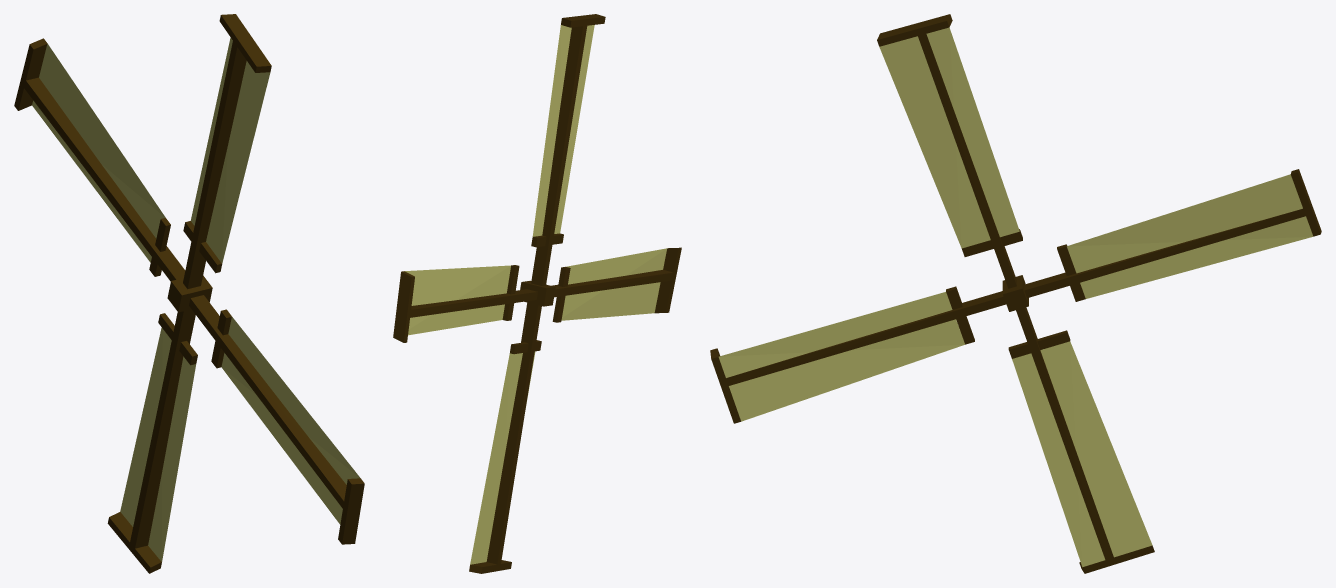
The model's file is sails0004.obj.
The picture shows the model from 3 angles, left to right: view 1: azimuth 30°, elevation 25°; view 2: azimuth 150°, elevation 25°; view 3: azimuth 270°, elevation 25°; orthographic projection. The views are drawn at different scales.
Visible parts, largest first — view 1: Sails_Mesh; view 2: Sails_Mesh; view 3: Sails_Mesh.
Part boxes in pixels (x1,y1,x2,y2): Sails_Mesh: [14, 14, 364, 573]; Sails_Mesh: [393, 14, 681, 573]; Sails_Mesh: [710, 14, 1321, 573].
Size of the model in its own units: 0.5135 by 9.72 by 9.72.
